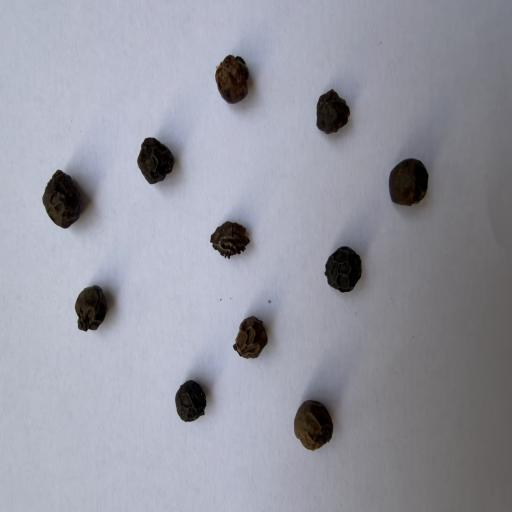Black_pepper: (284, 381, 360, 477), (202, 41, 274, 132), (313, 54, 369, 170), (120, 123, 188, 214), (162, 379, 225, 469), (34, 165, 92, 253), (322, 244, 378, 328), (386, 152, 445, 228), (230, 313, 286, 388), (63, 277, 116, 353)
papaya_seed: (209, 213, 269, 285)
